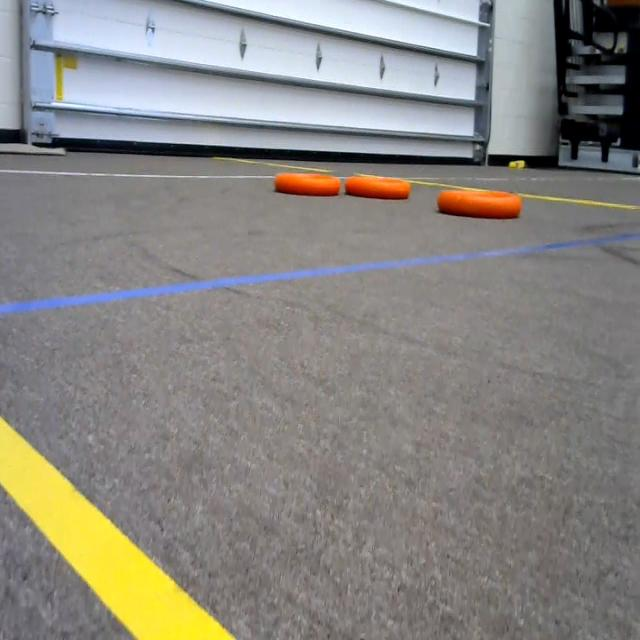note: (439, 178, 530, 223), (344, 165, 424, 209), (274, 162, 342, 210)
